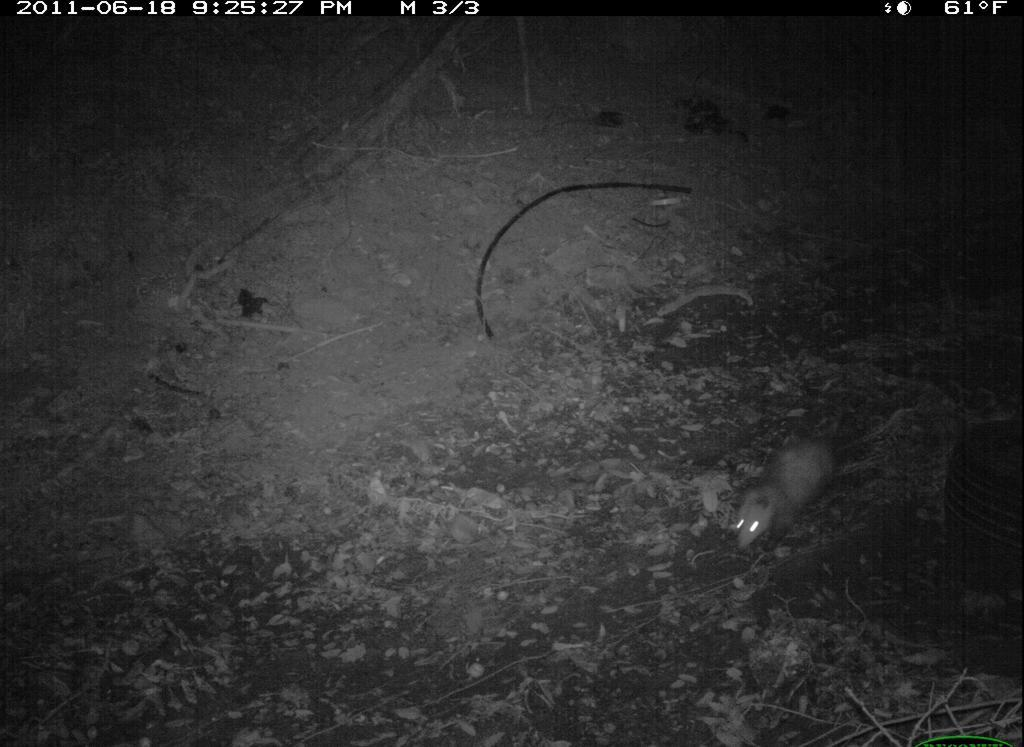opossum: (729, 410, 859, 560)
